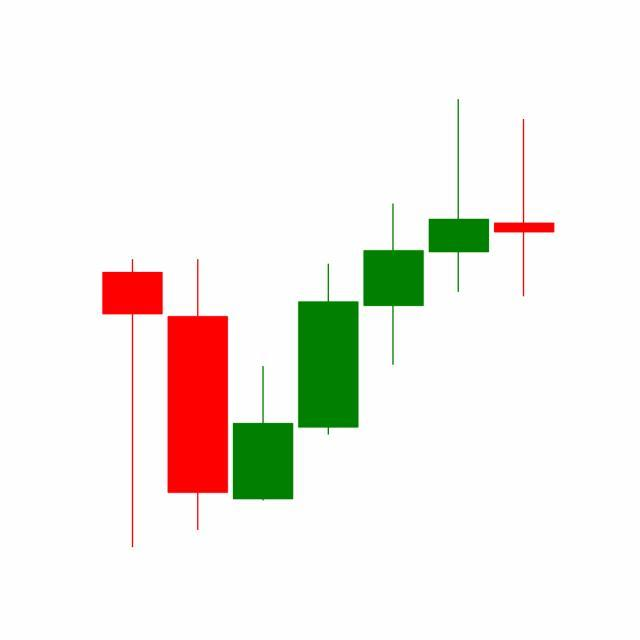Advance Block: (295, 99, 492, 440)
